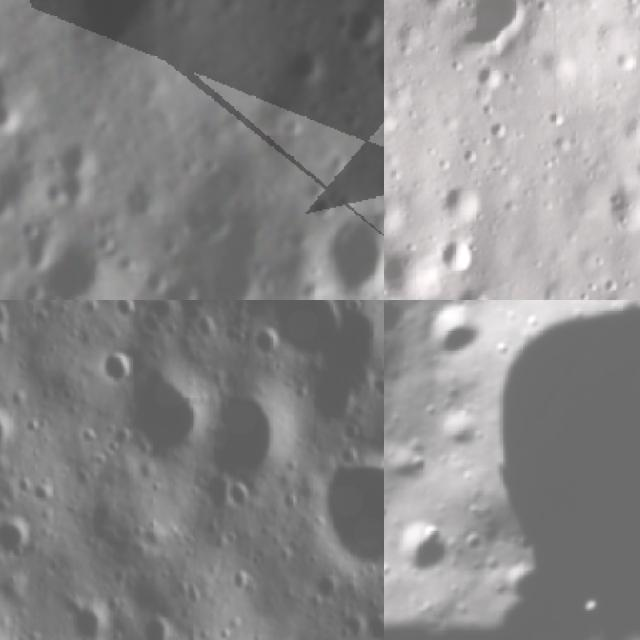crater: (384, 300, 640, 640), (115, 353, 215, 462), (202, 384, 294, 486), (315, 442, 384, 573), (317, 201, 384, 290), (384, 512, 460, 589), (416, 300, 496, 372), (267, 300, 348, 363), (64, 0, 172, 46), (38, 126, 102, 203), (45, 234, 112, 300), (384, 300, 417, 428), (454, 0, 534, 48), (393, 436, 448, 494), (435, 408, 489, 464), (90, 343, 144, 392), (0, 47, 31, 128), (384, 250, 432, 300), (334, 0, 379, 51), (284, 40, 328, 89), (438, 180, 484, 226), (70, 595, 116, 640), (217, 472, 256, 523), (0, 512, 39, 561), (165, 262, 211, 300), (437, 237, 476, 275), (367, 552, 384, 636), (365, 20, 384, 85), (0, 403, 20, 463), (474, 60, 505, 95), (384, 189, 404, 240), (363, 362, 384, 406), (449, 282, 491, 300), (419, 0, 459, 15), (632, 154, 640, 185)
